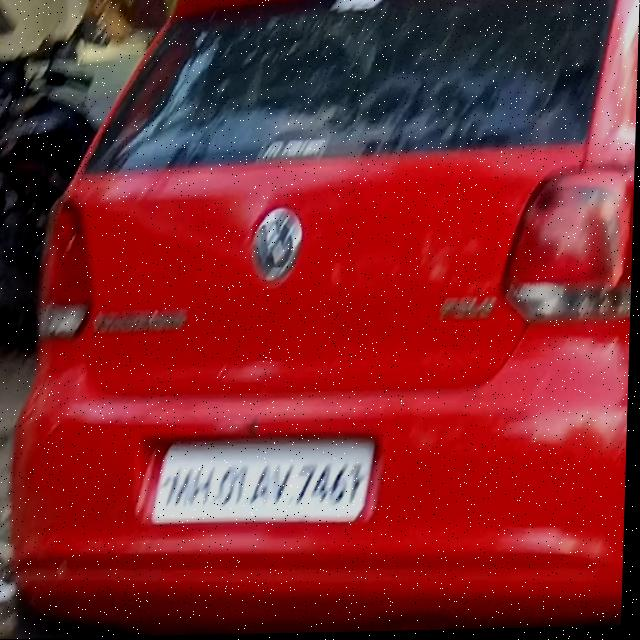plate: (152, 433, 380, 528)
